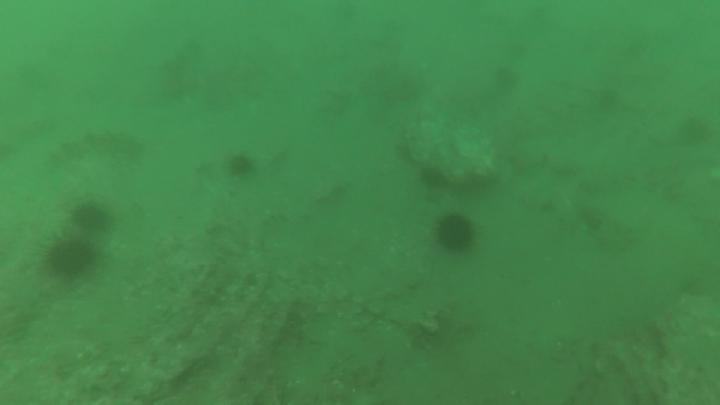echinus: (48, 244, 90, 272), (440, 219, 475, 252), (75, 206, 106, 228), (421, 168, 442, 190), (228, 157, 250, 175)
